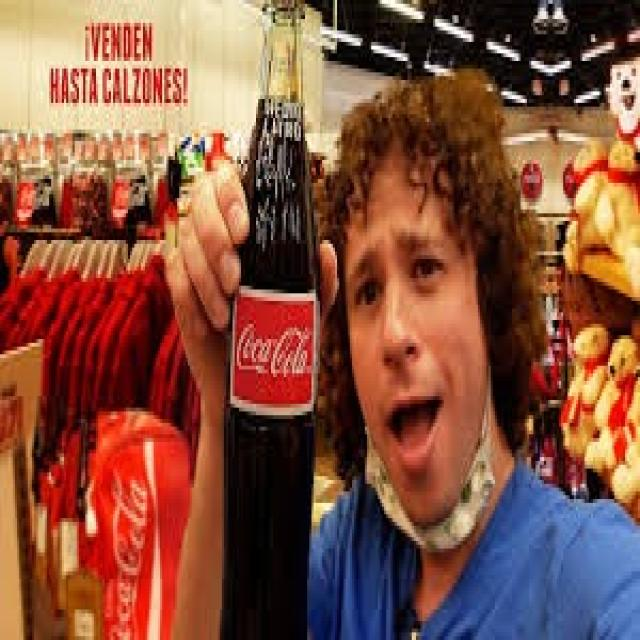coca cola: (106, 466, 150, 635), (234, 312, 315, 398)
